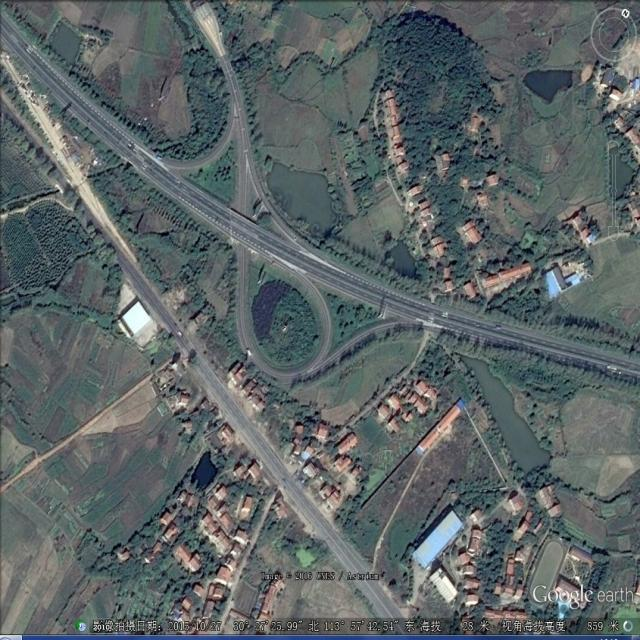overpass: (160, 99, 440, 380)
